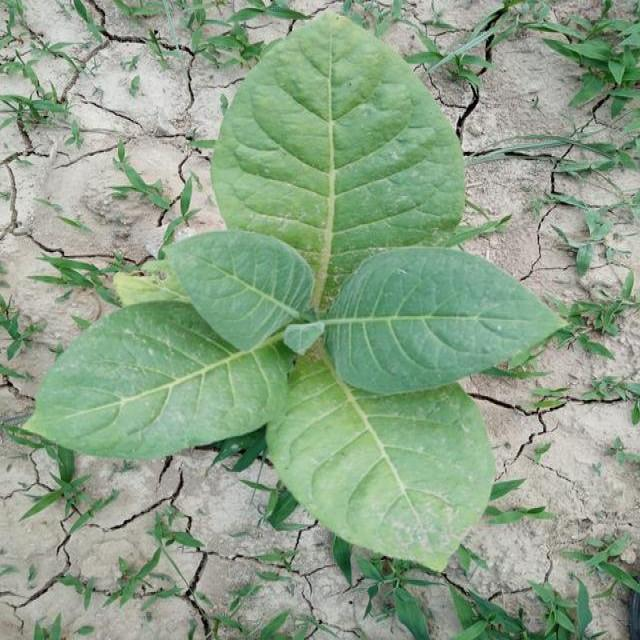crop: (46, 11, 558, 580)
